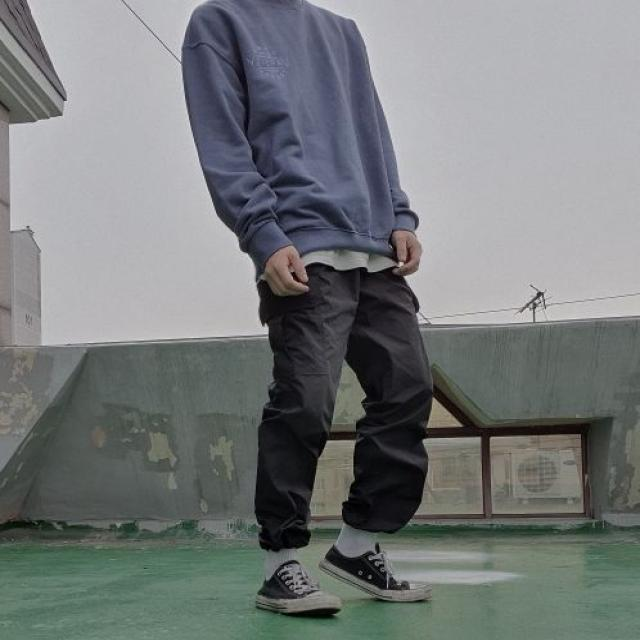cottonpants: (257, 254, 428, 550)
mtm: (183, 0, 419, 274)
